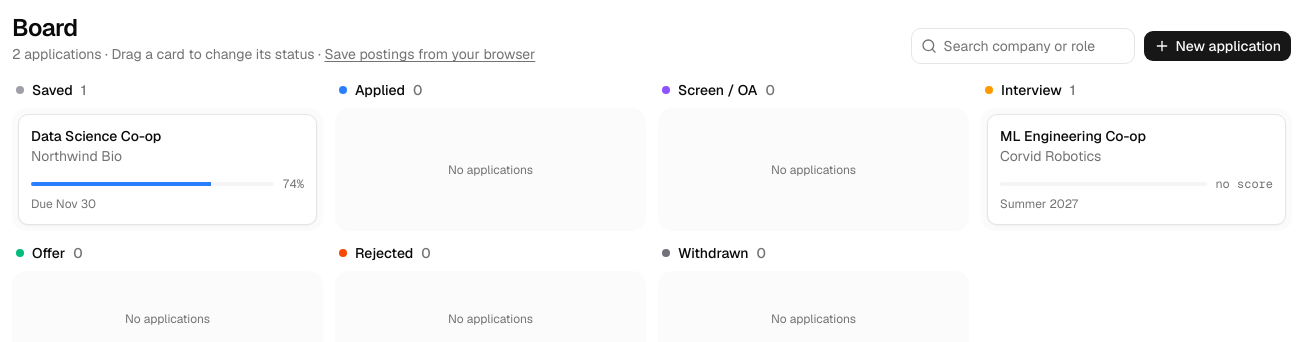
Test: BoardPage › filters by company or role and pauses dragging while searching
Expected: the text "Data Science Co-op" is shown, [31,127,161,145]
Type "corvid" into the search field labelled "Search company or role" at x=1022, y=46, box [910,28,1134,64]
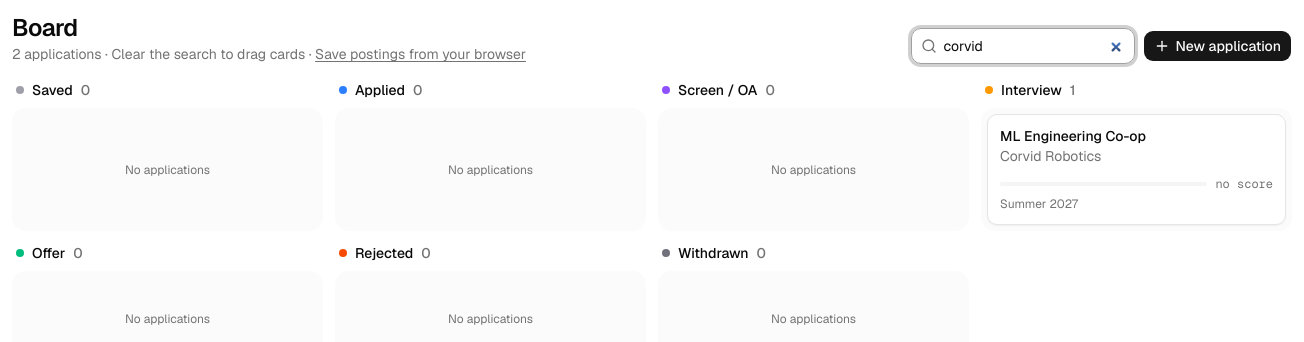
Expected: the text "ML Engineering Co-op" is shown, [1000,127,1146,145]
Now the text "Clear the search to drag cards" is shown, box [111,45,305,63]
Now the button "Data Science Co-op" is gone
